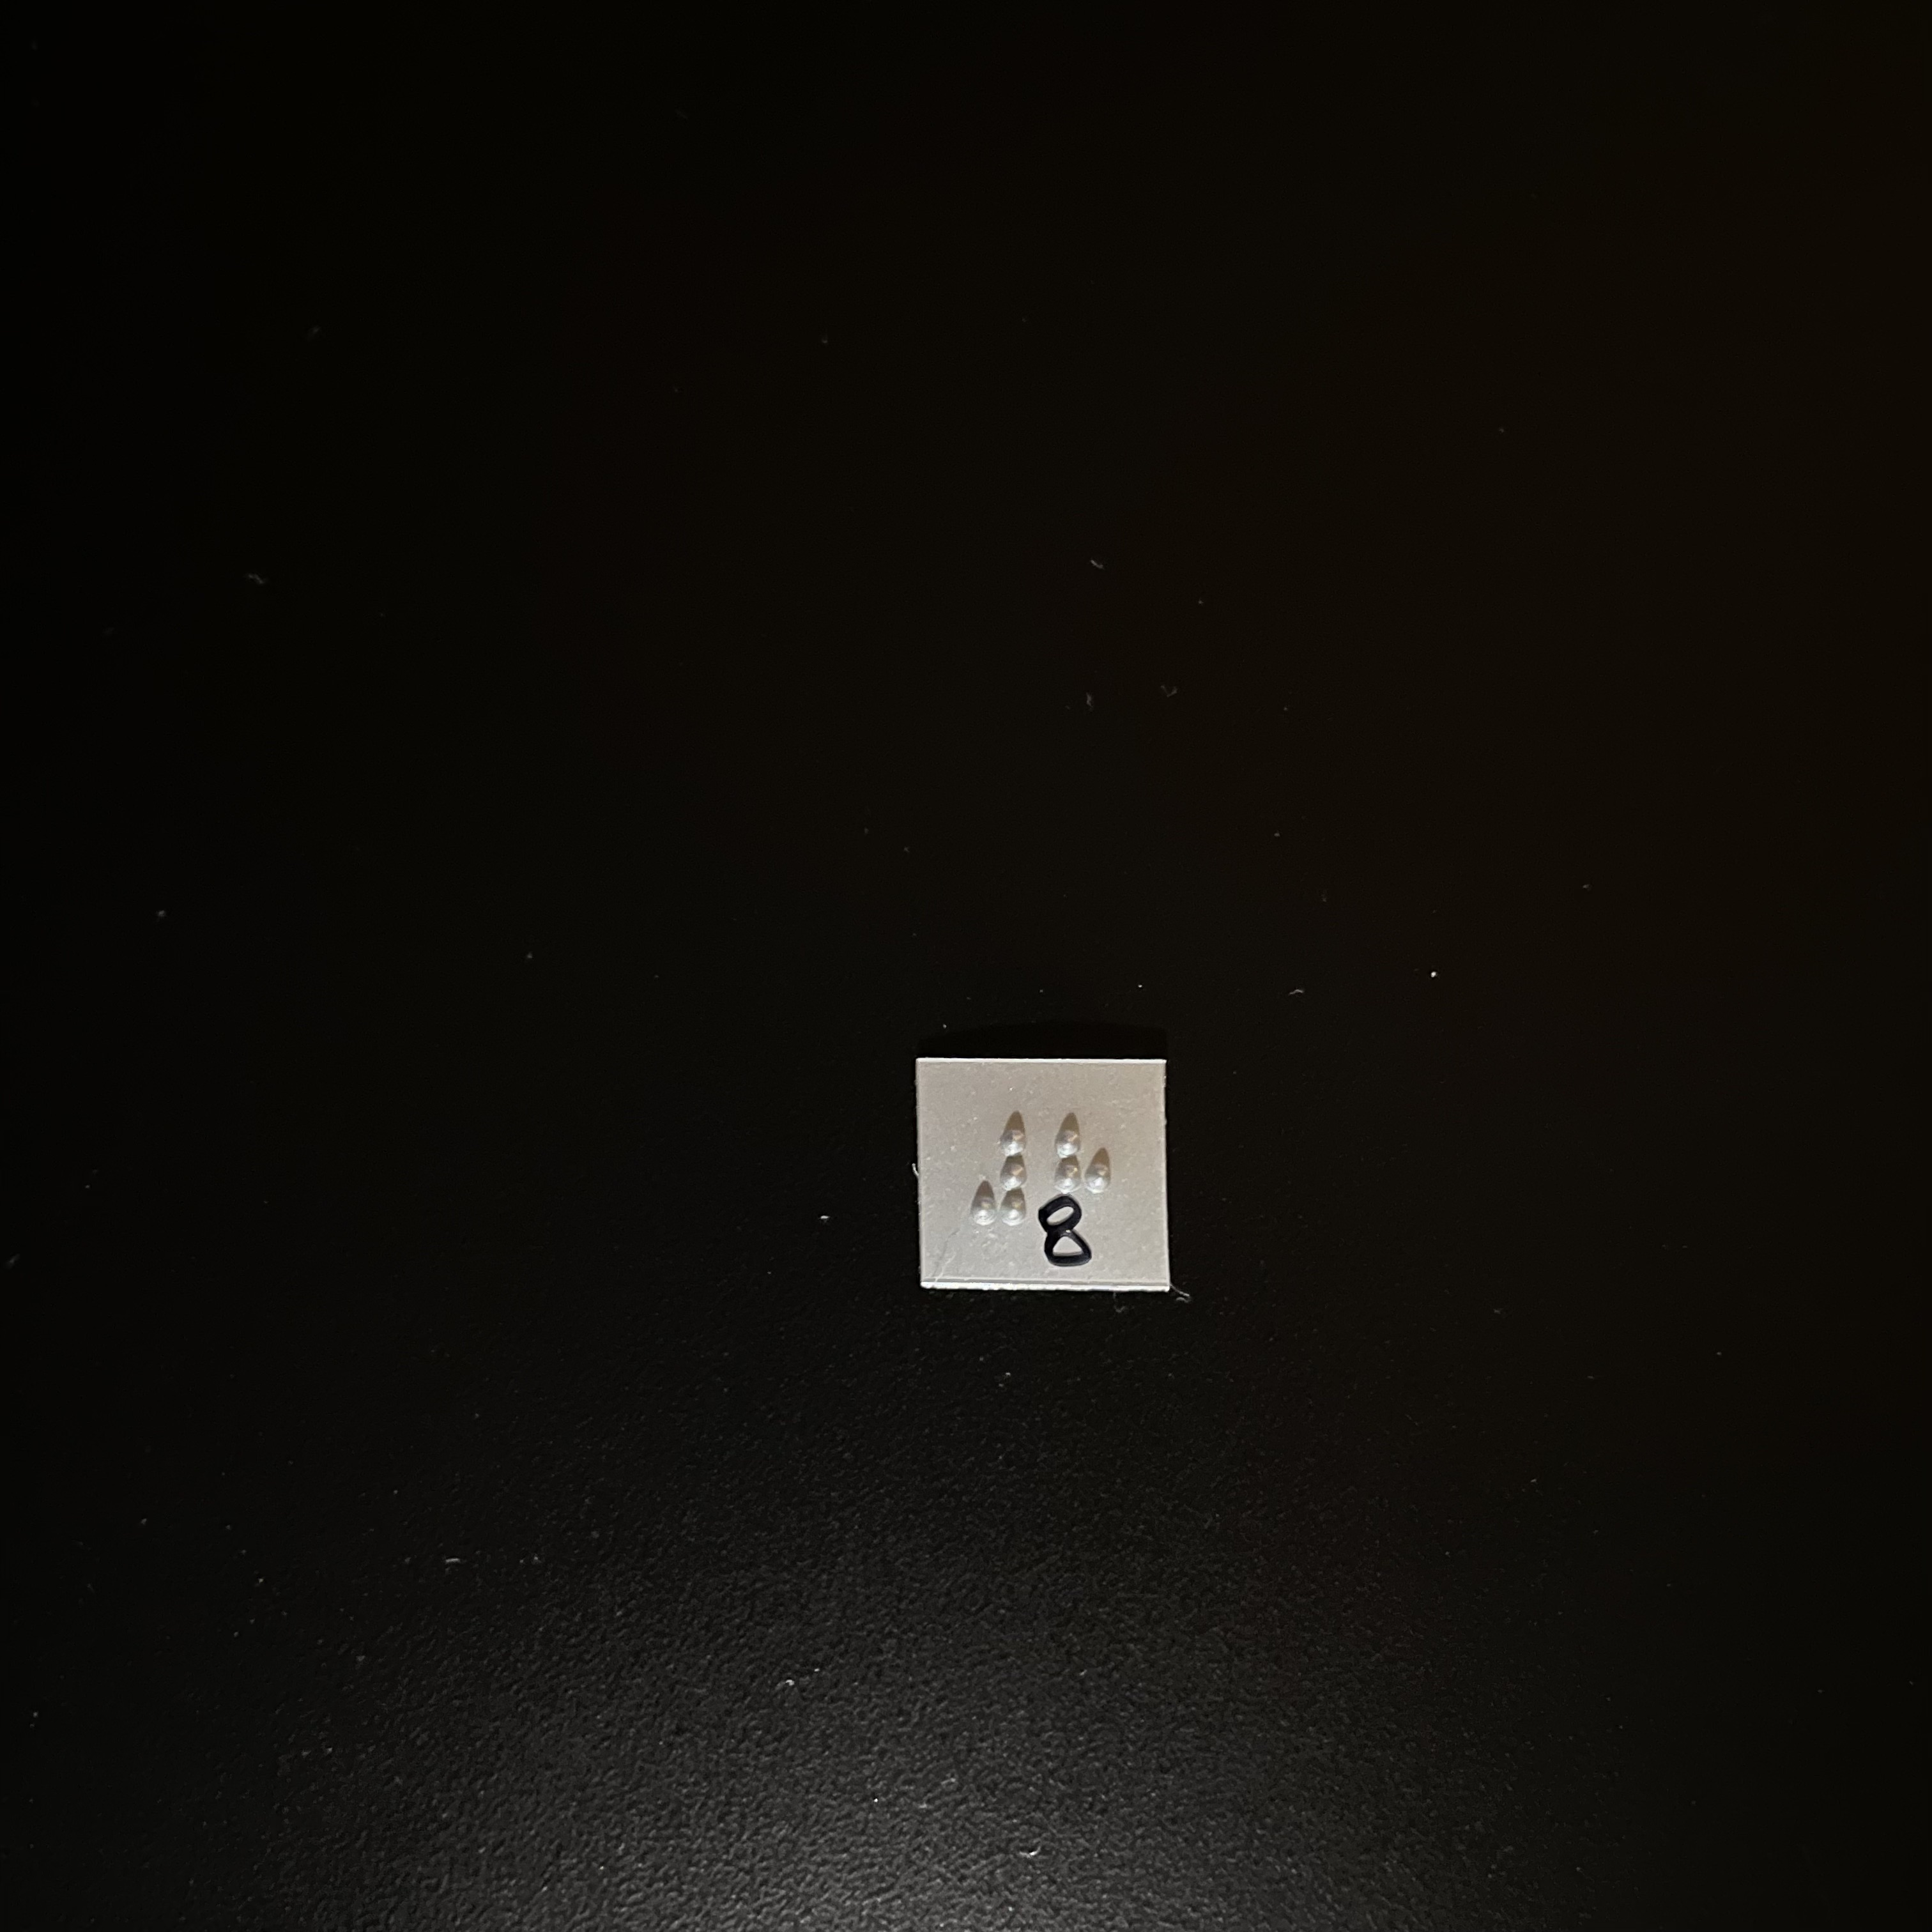#: (965, 1112, 1038, 1236)
h: (1040, 1115, 1122, 1238)
